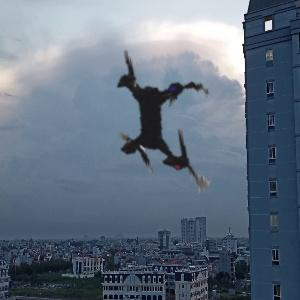drone: (42, 5, 279, 242)
